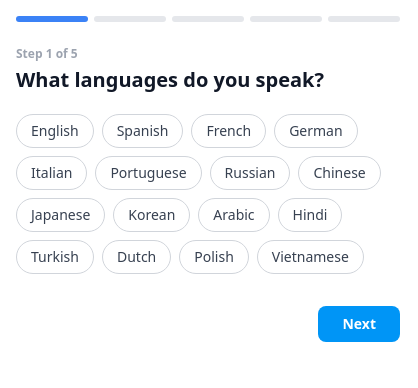
Test: Onboarding Component › shows a validation error if Next is clicked with no native language picked
Expected: the heading "What languages do you speak?" is shown, x1=16 y1=66 x2=324 y2=93
Click the button "Next" at (359, 324), box x1=318 y1=306 x2=400 y2=342
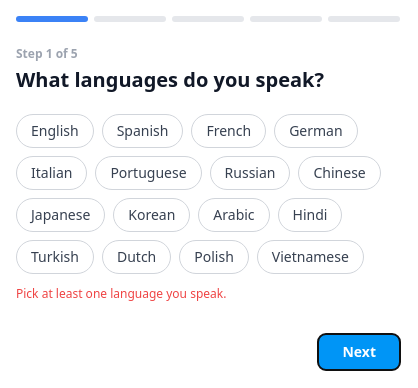
Expected: the heading "What languages do you speak?" is shown, x1=16 y1=66 x2=324 y2=93
Expected: the text "Pick at least one language you speak." is shown, x1=16 y1=285 x2=226 y2=302
